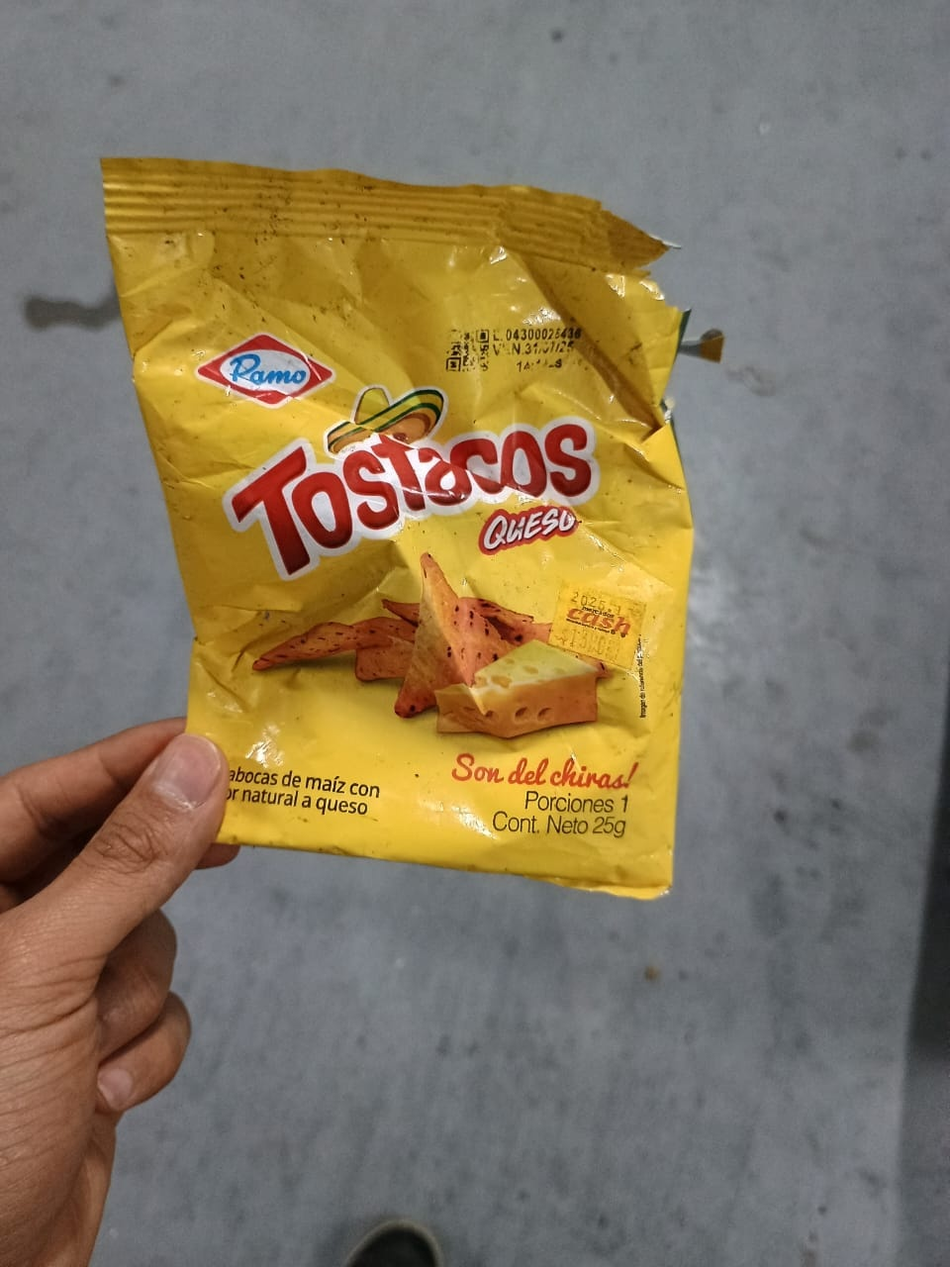Ordinario: (101, 156, 693, 901)
